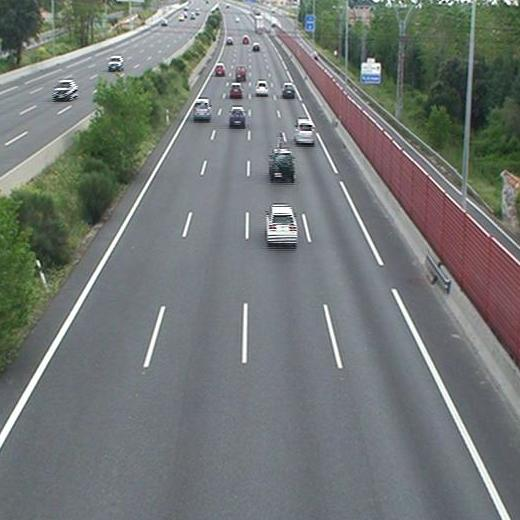car: (265, 206, 297, 243), (269, 150, 294, 178), (294, 120, 315, 142), (193, 100, 211, 119), (229, 107, 246, 126), (255, 82, 268, 95), (282, 84, 295, 97), (229, 83, 242, 95), (214, 63, 224, 74)
van: (235, 66, 246, 81)
